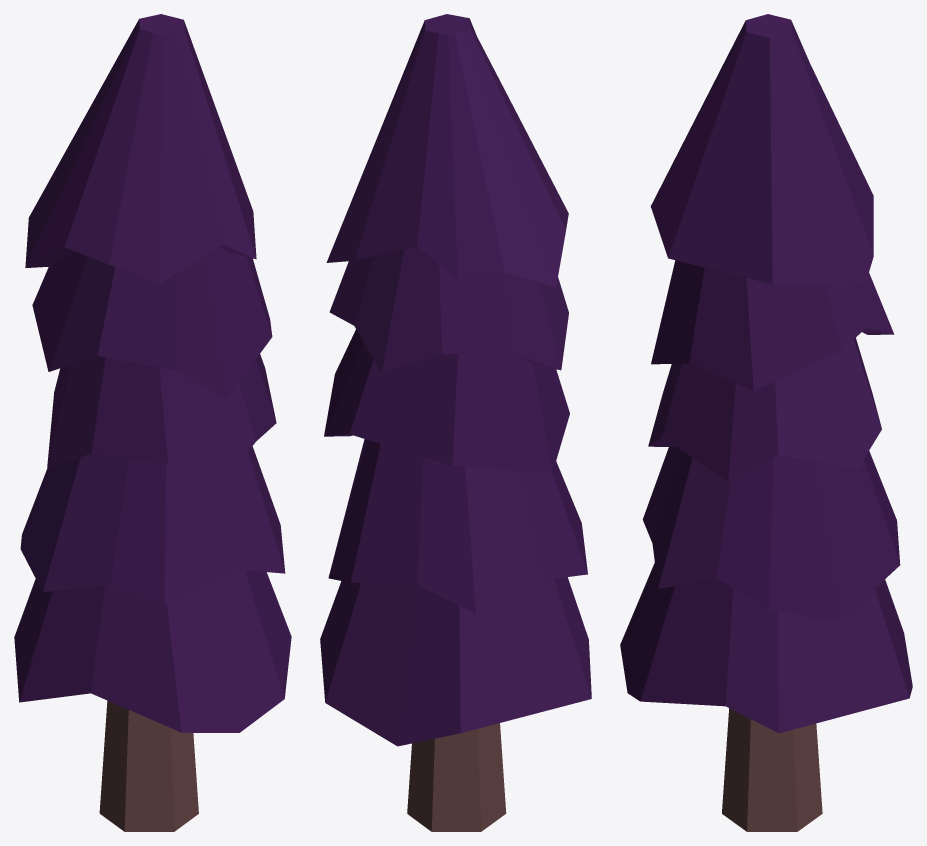
File: pinetree1.fbx
3 views of the same model, side by side, from view 1: azimuth 30°, elevation 25°; view 2: azimuth 150°, elevation 25°; view 3: azimuth 270°, elevation 25° (orthographic).
Parts seen in each view (by area): view 1: Cylinder.011, Cylinder.007, Cylinder.008, Cylinder.010, Cylinder.009, pinetree2; view 2: Cylinder.011, Cylinder.007, Cylinder.008, Cylinder.009, Cylinder.010, pinetree2; view 3: Cylinder.011, Cylinder.008, Cylinder.007, Cylinder.009, Cylinder.010, pinetree2.
Boxes of the visible parts, x1,y1,x2,y2 form: Cylinder.011: (25, 14, 256, 283); Cylinder.007: (14, 569, 291, 732); Cylinder.008: (20, 446, 285, 604); Cylinder.010: (32, 247, 272, 398); Cylinder.009: (47, 354, 276, 488); pinetree2: (99, 700, 198, 831); Cylinder.011: (326, 14, 568, 287); Cylinder.007: (320, 577, 591, 746); Cylinder.008: (328, 439, 587, 613); Cylinder.009: (324, 329, 569, 473); Cylinder.010: (329, 246, 568, 372); pinetree2: (407, 723, 506, 831); Cylinder.011: (650, 14, 873, 285); Cylinder.008: (642, 446, 900, 622); Cylinder.007: (620, 562, 912, 733); Cylinder.009: (648, 338, 881, 481); Cylinder.010: (651, 260, 894, 390); pinetree2: (722, 708, 822, 831).
Bounding box in the file's own units: 374 × 1058 × 353.
